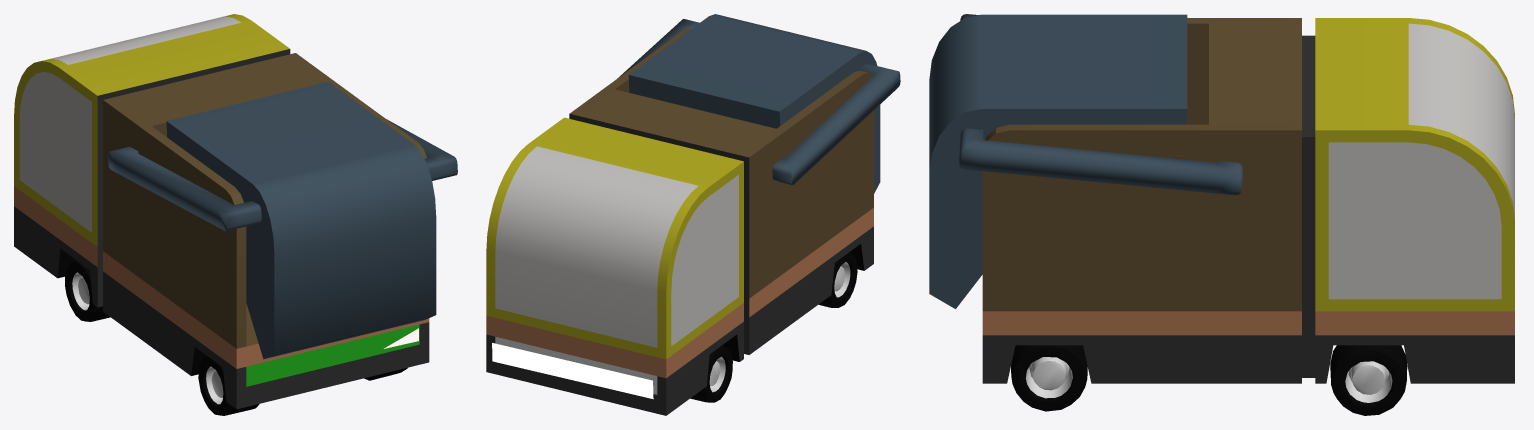
Rendered from SM_GarbageTruck_Yellow.glb.
3 renders of one model, left to right at view 1: azimuth 30°, elevation 25°; view 2: azimuth 150°, elevation 25°; view 3: azimuth 270°, elevation 25°, orthographic. The views are drawn at different scales.
Parts seen in each view (by area): view 1: BodyYellow, Rear, Wheels.Rear, Wheels.Front; view 2: BodyYellow, Rear, Lights, Wheels.Front, Wheels.Rear; view 3: BodyYellow, Rear, Wheels.Front, Wheels.Rear.
Boxes of the visible parts, x1,y1,x2,y2 form: BodyYellow: (14,14,429,409); Rear: (108,81,457,359); Wheels.Rear: (198,356,407,415); Wheels.Front: (65,260,110,321); BodyYellow: (486,29,873,415); Rear: (617,14,900,193); Lights: (492,343,653,399); Wheels.Front: (690,345,732,402); Wheels.Rear: (818,252,857,307); BodyYellow: (982,18,1514,383); Rear: (929,14,1242,308); Wheels.Front: (1330,345,1407,415); Wheels.Rear: (1011,345,1087,411).
Size of the model in its own units: 2.41 by 2.51 by 4.44.
